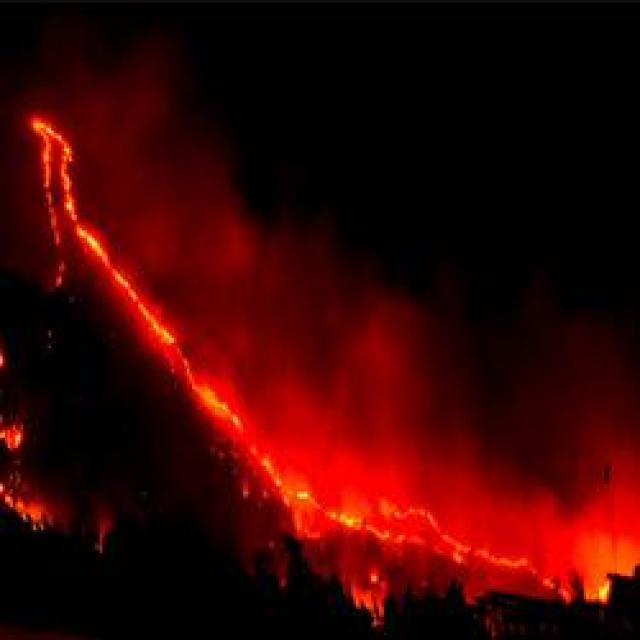fire: (28, 108, 579, 617)
